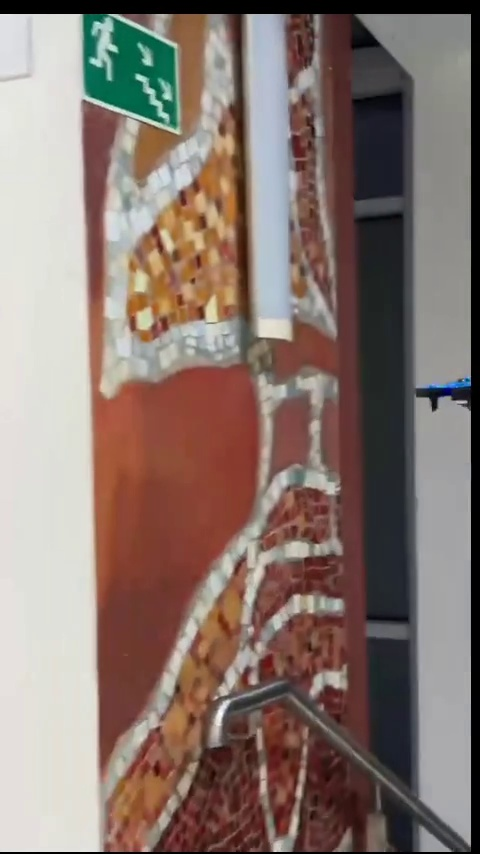drone: (415, 375, 478, 412)
